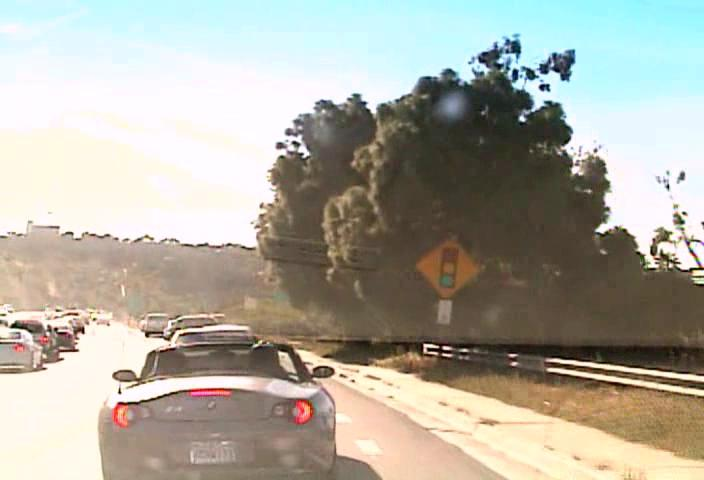signalAhead: (414, 234, 479, 298)
